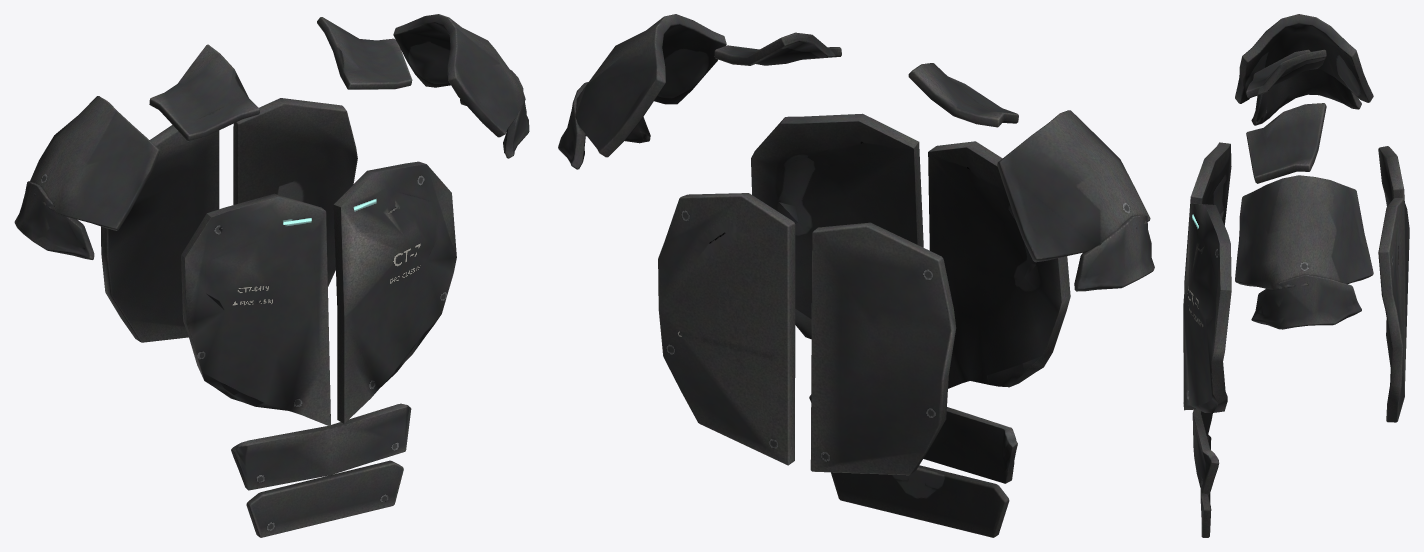
Rendered from ct7_trauma_plating.gltf.
The picture shows the model from 3 angles, left to right: view 1: azimuth 30°, elevation 25°; view 2: azimuth 150°, elevation 25°; view 3: azimuth 270°, elevation 25°; orthographic projection. The views are drawn at different scales.
Parts seen in each view (by area): view 1: B_chest__ct7_trauma_plating, B_spine__ct7_trauma_plating, B_upper_arm_R__ct7_trauma_plating, B_upper_arm_L__ct7_trauma_plating; view 2: B_chest__ct7_trauma_plating, B_upper_arm_R__ct7_trauma_plating, B_upper_arm_L__ct7_trauma_plating, B_spine__ct7_trauma_plating; view 3: B_chest__ct7_trauma_plating, B_upper_arm_L__ct7_trauma_plating, B_upper_arm_R__ct7_trauma_plating, B_spine__ct7_trauma_plating.
Part boxes in pixels (x1,y1,x2,y2): B_chest__ct7_trauma_plating: (101,17,456,426); B_spine__ct7_trauma_plating: (231,403,411,537); B_upper_arm_R__ct7_trauma_plating: (14,96,159,259); B_upper_arm_L__ct7_trauma_plating: (393,14,529,158); B_chest__ct7_trauma_plating: (658,32,1070,475); B_upper_arm_R__ct7_trauma_plating: (997,110,1154,291); B_upper_arm_L__ct7_trauma_plating: (558,14,726,169); B_spine__ct7_trauma_plating: (809,394,1017,537); B_chest__ct7_trauma_plating: (1183,49,1409,422); B_upper_arm_L__ct7_trauma_plating: (1235,175,1373,329); B_upper_arm_R__ct7_trauma_plating: (1235,14,1373,125); B_spine__ct7_trauma_plating: (1192,408,1219,537).
Bounding box in the file's own units: 0.6699 × 0.5693 × 0.2716.
Materials: 1 (1 with a texture image).
